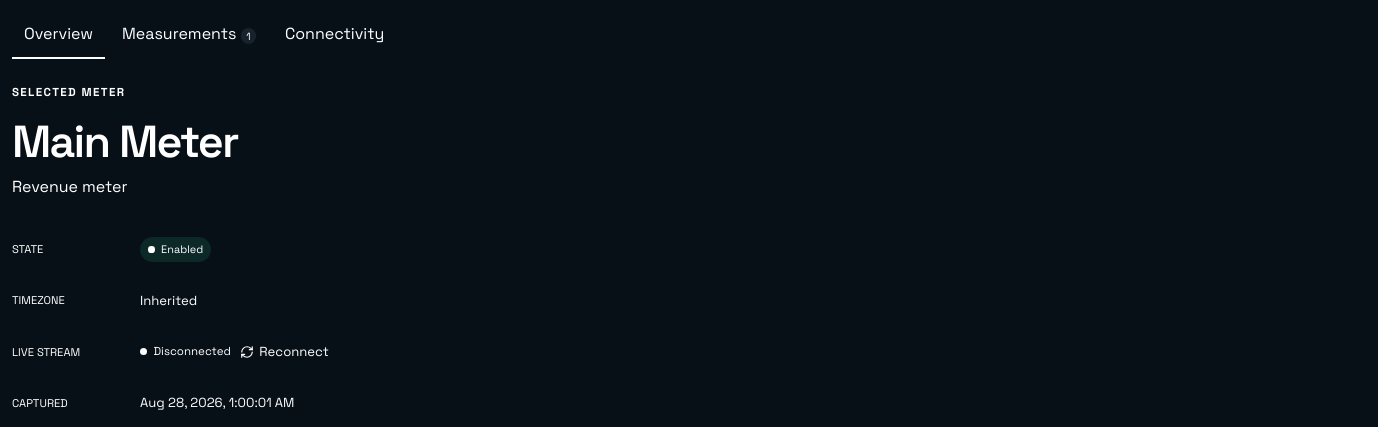
Test: Asset detail panel › marks cached readings stale, ingests SSE and exposes reconnect
Expected: the button "Reconnect" is shown, [240, 342, 329, 362]
Click the button "Measurements 1": (189, 35) [110, 12, 268, 59]
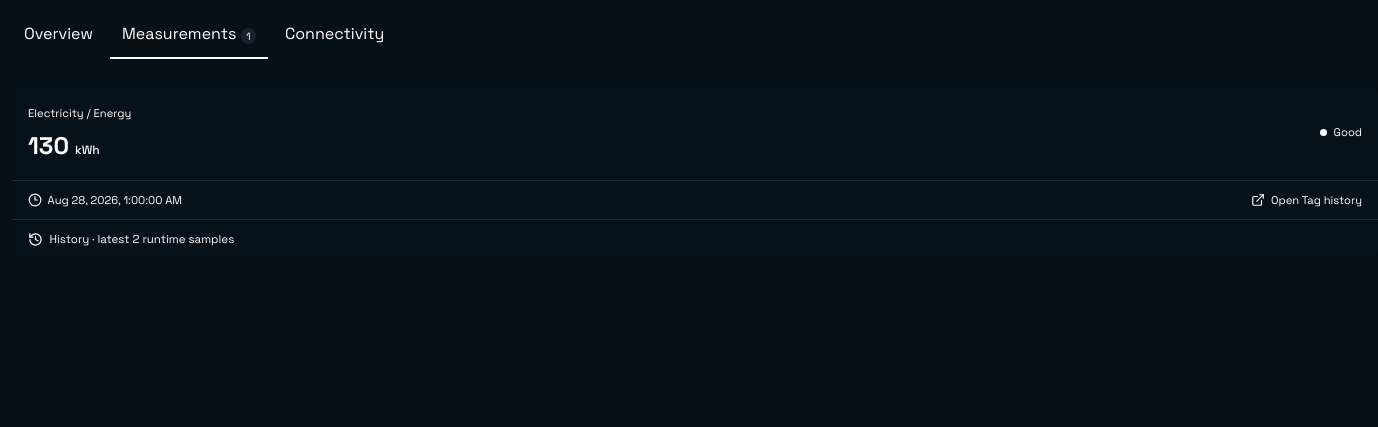
Now the text "130" is shown, box [28, 130, 69, 161]
Now the text "good" is shown, box [1320, 124, 1362, 141]
